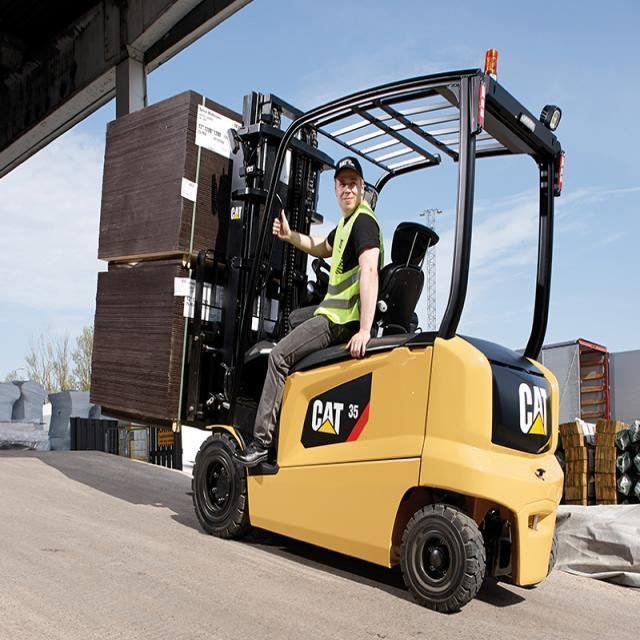forklift: (184, 50, 577, 619)
